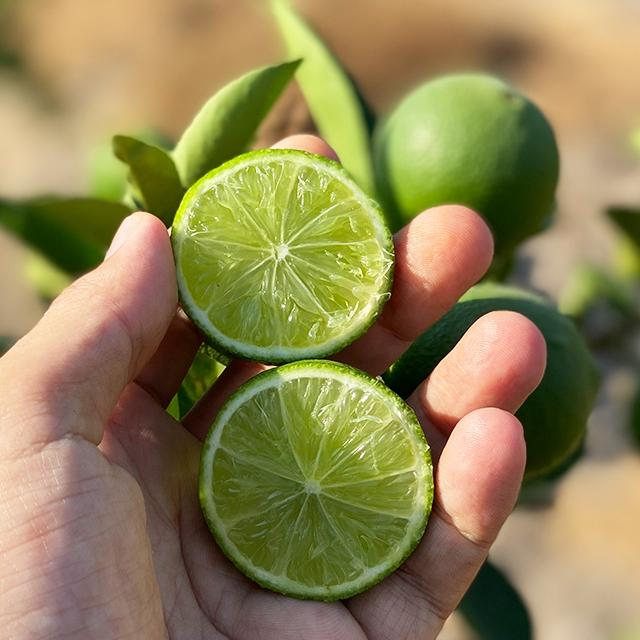lime: (377, 59, 577, 259)
